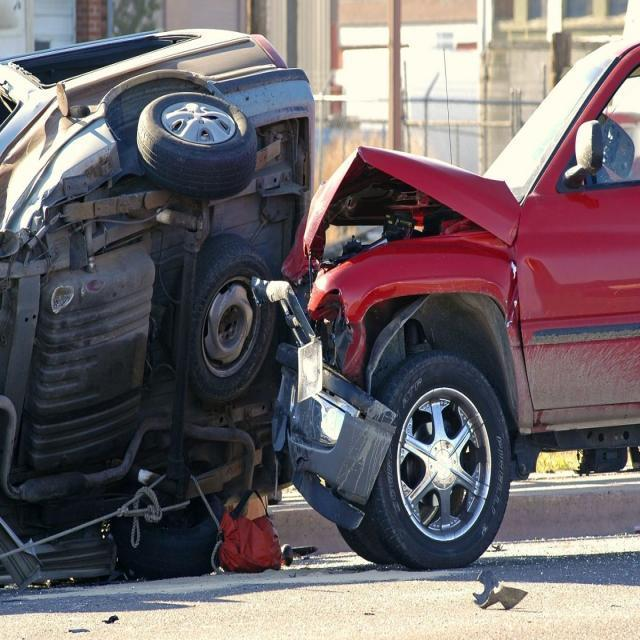car Accident: (72, 121, 546, 462)
